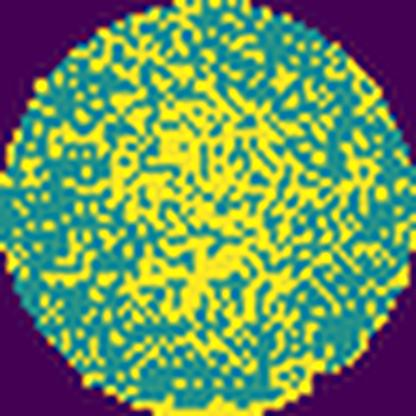Near-full: (22, 0, 415, 397)
